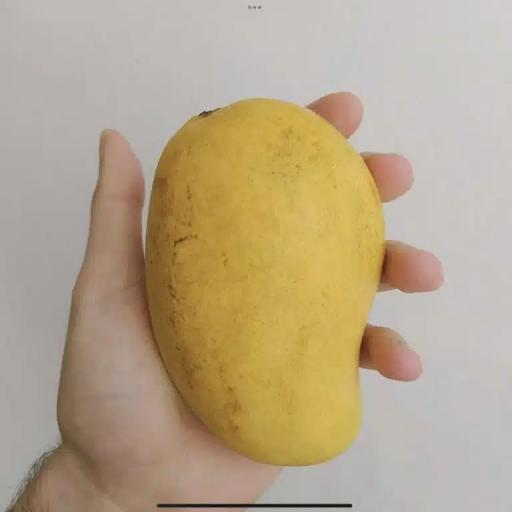mango: (146, 99, 384, 465)
